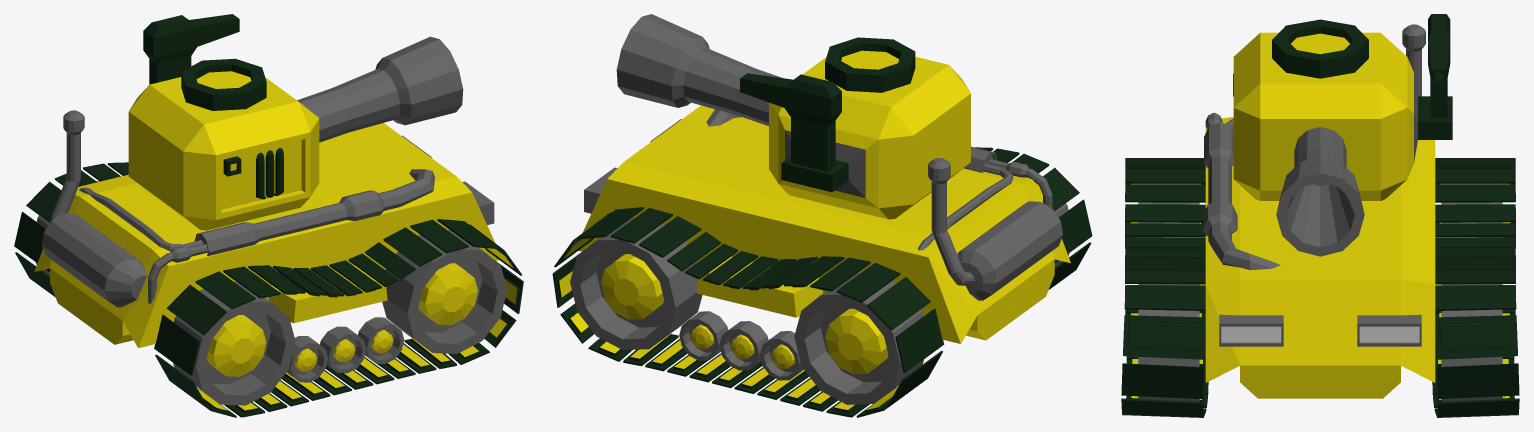
Rendered from Tank.dae.
The picture shows the model from 3 angles, left to right: view 1: azimuth 30°, elevation 25°; view 2: azimuth 150°, elevation 25°; view 3: azimuth 270°, elevation 25°; orthographic projection. The views are drawn at different scales.
Parts seen in each view (by area): view 1: Body, Turret, Tracks, Pipe, Engine; view 2: Body, Turret, Tracks, Engine, Pipe; view 3: Body, Tracks, Turret, Pipe, Engine.
Part boxes in pixels (bbox=[...]): Body: bbox=[34, 123, 507, 405]; Turret: bbox=[128, 14, 463, 230]; Tracks: bbox=[14, 162, 523, 417]; Pipe: bbox=[79, 169, 434, 303]; Engine: bbox=[42, 110, 147, 307]; Body: bbox=[570, 105, 1070, 404]; Turret: bbox=[616, 14, 970, 219]; Tracks: bbox=[552, 147, 1092, 417]; Engine: bbox=[928, 158, 1062, 300]; Pipe: bbox=[706, 109, 1052, 250]; Body: bbox=[1138, 117, 1502, 401]; Tracks: bbox=[1121, 158, 1519, 417]; Turret: bbox=[1233, 14, 1452, 256]; Pipe: bbox=[1203, 112, 1280, 269]; Engine: bbox=[1402, 24, 1425, 96].
Size of the model in its own units: 2.77 by 2.29 by 1.94.
